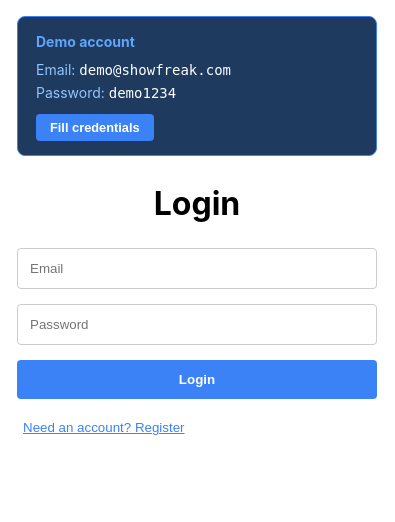
AuthPage › shows a success message after successful login
Type "test@example.com" into the field with placeholder "Email" at (197, 269), box [17, 248, 377, 289]
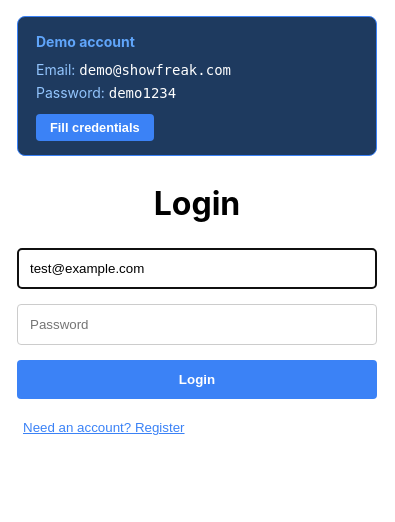
Type "password123" into the password field with placeholder "Password" at (197, 325), box [17, 304, 377, 345]
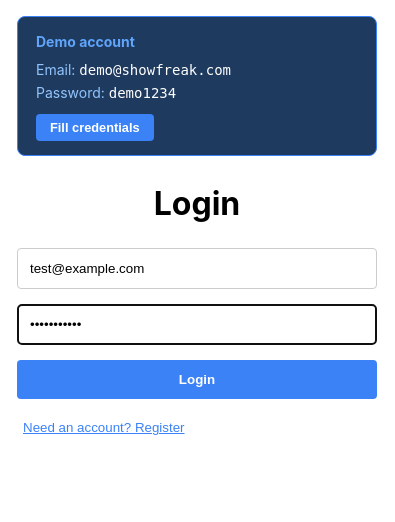
Click the button "Login" at (197, 380), box [17, 360, 377, 399]
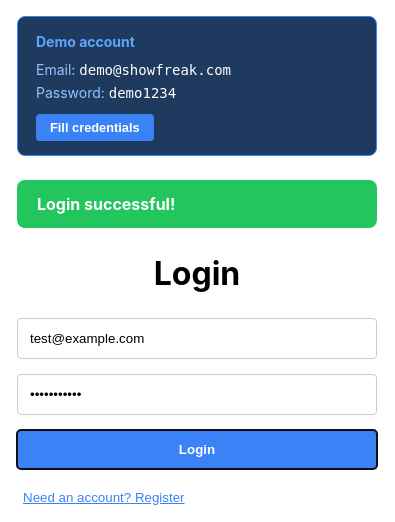
Expected: the text "Login successful!" is shown, [17, 180, 377, 228]
